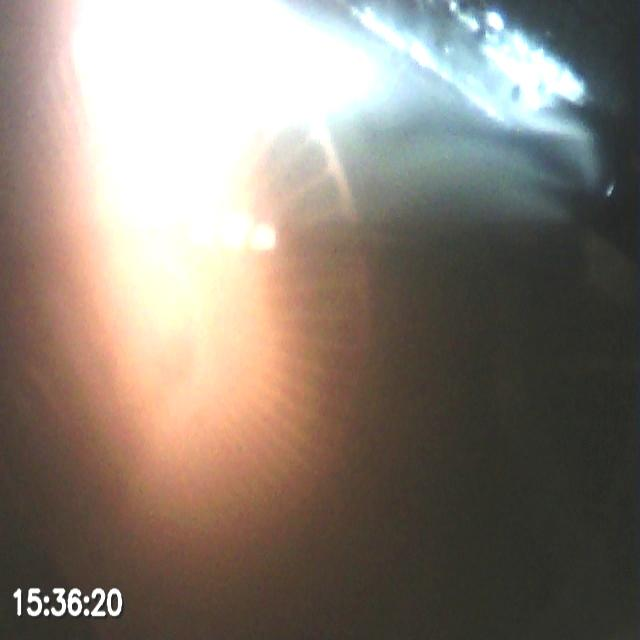white-dots: (189, 212, 279, 253)
